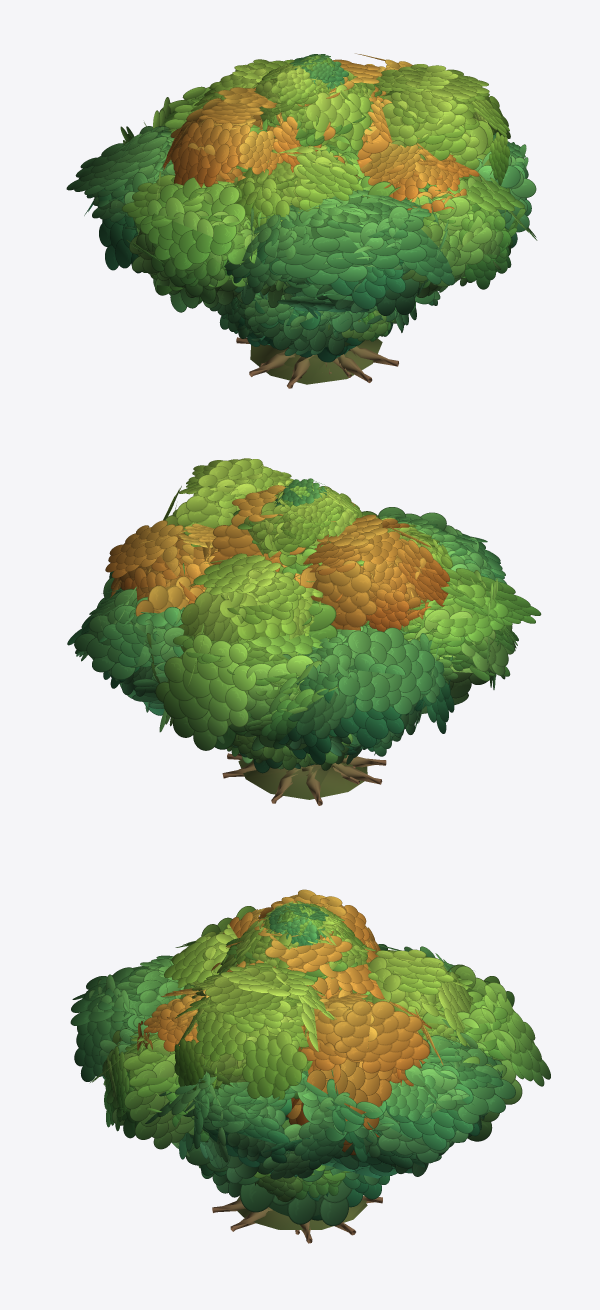
Rendered from trees.glb.
3 renders of one model, top to bottom at view 1: azimuth 30°, elevation 25°; view 2: azimuth 150°, elevation 25°; view 3: azimuth 270°, elevation 25°, orthographic. The views are drawn at different scales.
Visible parts, largest first — view 1: Tree4_LOD0L, Tree3_LOD0L, Tree4_LOD1L, Tree1_LOD0L, Tree1_LOD2L, Tree0_LOD1L, Tree2_LOD0L, Tree4_LOD2L, Tree4_LOD0, Tree3_LOD0, Tree0_LOD0L, Tree3_LOD1L (+4 smaller); view 2: Tree4_LOD0L, Tree3_LOD0L, Tree4_LOD1L, Tree4_LOD0, Tree2_LOD0L, Tree4_LOD2L, Tree0_LOD0L, Tree1_LOD1L, Tree3_LOD0, Tree1_LOD2L, Tree2_LOD2L, Tree1_LOD0L (+1 smaller); view 3: Tree3_LOD0L, Tree4_LOD0L, Tree4_LOD1L, Tree1_LOD0L, Tree1_LOD2L, Tree4_LOD2L, Tree3_LOD1L, Tree0_LOD0L, Tree3_LOD0, Tree1_LOD1L, Tree4_LOD0, Tree0_LOD1L (+1 smaller).
Boxes of the visible parts, left/top/right/bottom form: Tree4_LOD0L: left=66, top=86, right=537, bottom=315; Tree3_LOD0L: left=162, top=53, right=510, bottom=228; Tree4_LOD1L: left=97, top=84, right=536, bottom=308; Tree1_LOD0L: left=221, top=60, right=434, bottom=362; Tree1_LOD2L: left=209, top=290, right=440, bottom=355; Tree0_LOD1L: left=236, top=78, right=440, bottom=190; Tree2_LOD0L: left=254, top=63, right=372, bottom=150; Tree4_LOD2L: left=142, top=270, right=465, bottom=318; Tree4_LOD0: left=236, top=337, right=398, bottom=388; Tree3_LOD0: left=249, top=338, right=382, bottom=382; Tree0_LOD0L: left=257, top=60, right=383, bottom=205; Tree3_LOD1L: left=214, top=91, right=490, bottom=197; Tree4_LOD0L: left=87, top=507, right=541, bottom=750; Tree3_LOD0L: left=105, top=458, right=453, bottom=651; Tree4_LOD1L: left=67, top=510, right=514, bottom=750; Tree4_LOD0: left=222, top=755, right=386, bottom=805; Tree2_LOD0L: left=268, top=488, right=359, bottom=572; Tree4_LOD2L: left=119, top=655, right=510, bottom=764; Tree0_LOD0L: left=244, top=488, right=369, bottom=636; Tree1_LOD1L: left=235, top=478, right=352, bottom=773; Tree3_LOD0: left=227, top=753, right=382, bottom=803; Tree1_LOD2L: left=263, top=498, right=394, bottom=770; Tree2_LOD2L: left=261, top=486, right=363, bottom=565; Tree1_LOD0L: left=230, top=480, right=392, bottom=768; Tree3_LOD0L: left=137, top=889, right=473, bottom=1129; Tree4_LOD0L: left=72, top=906, right=550, bottom=1172; Tree4_LOD1L: left=70, top=934, right=522, bottom=1177; Tree1_LOD0L: left=187, top=904, right=389, bottom=1207; Tree1_LOD2L: left=185, top=923, right=352, bottom=1225; Tree4_LOD2L: left=171, top=1123, right=441, bottom=1183; Tree3_LOD1L: left=196, top=977, right=471, bottom=1155; Tree0_LOD0L: left=232, top=910, right=376, bottom=993; Tree3_LOD0: left=212, top=1195, right=382, bottom=1243; Tree1_LOD1L: left=254, top=903, right=368, bottom=1209; Tree4_LOD0: left=230, top=1099, right=366, bottom=1235; Tree0_LOD1L: left=185, top=919, right=350, bottom=995.
Size of what is drawn, in the model's own units: 1.7 by 1.15 by 1.7.
2 materials, 1 textured.
